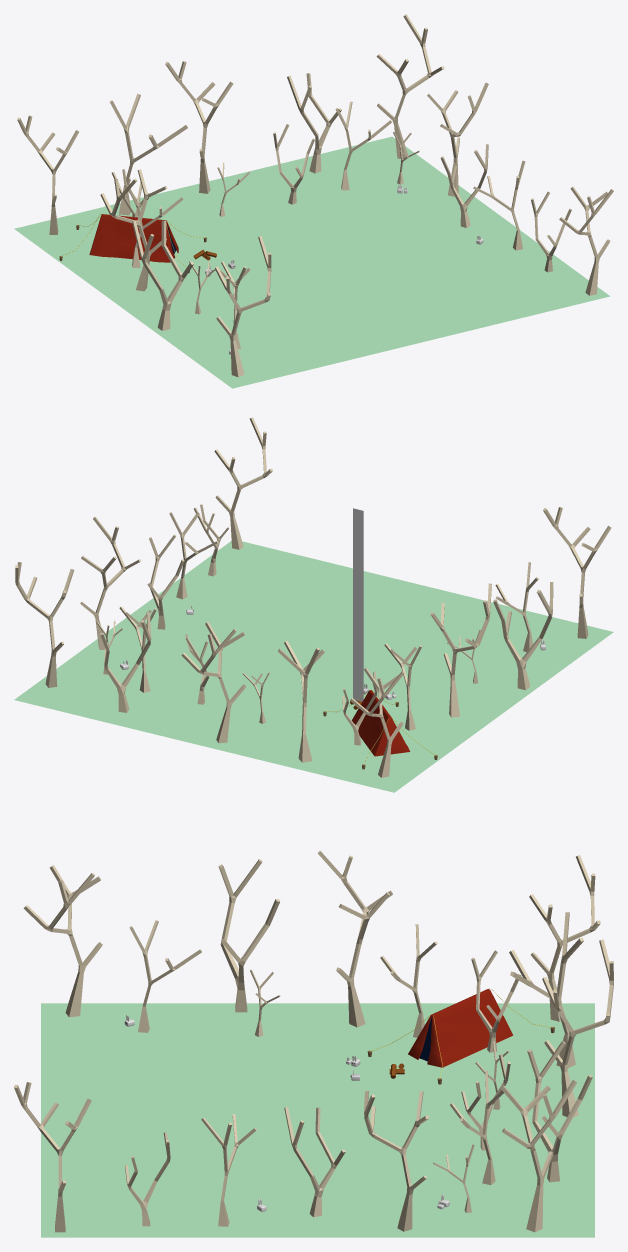
Rendered from with_rabbit.glb.
The picture shows the model from 3 angles, top to bottom: view 1: azimuth 30°, elevation 25°; view 2: azimuth 150°, elevation 25°; view 3: azimuth 270°, elevation 25°; orthographic projection. The views are drawn at different scales.
Parts seen in each view (by area): view 1: grass, tree; view 2: grass, tree, smoke; view 3: grass, tree.
Boxes of the visible parts, left/top/right/bottom form: grass: left=14, top=136, right=610, bottom=388; tree: left=17, top=14, right=613, bottom=377; grass: left=14, top=541, right=613, bottom=792; tree: left=15, top=417, right=611, bottom=777; smoke: left=353, top=508, right=363, bottom=701; grass: left=41, top=1003, right=594, bottom=1237; tree: left=14, top=851, right=613, bottom=1232.
Bounding box in the file's own units: 8.65 × 3.97 × 8.66.
